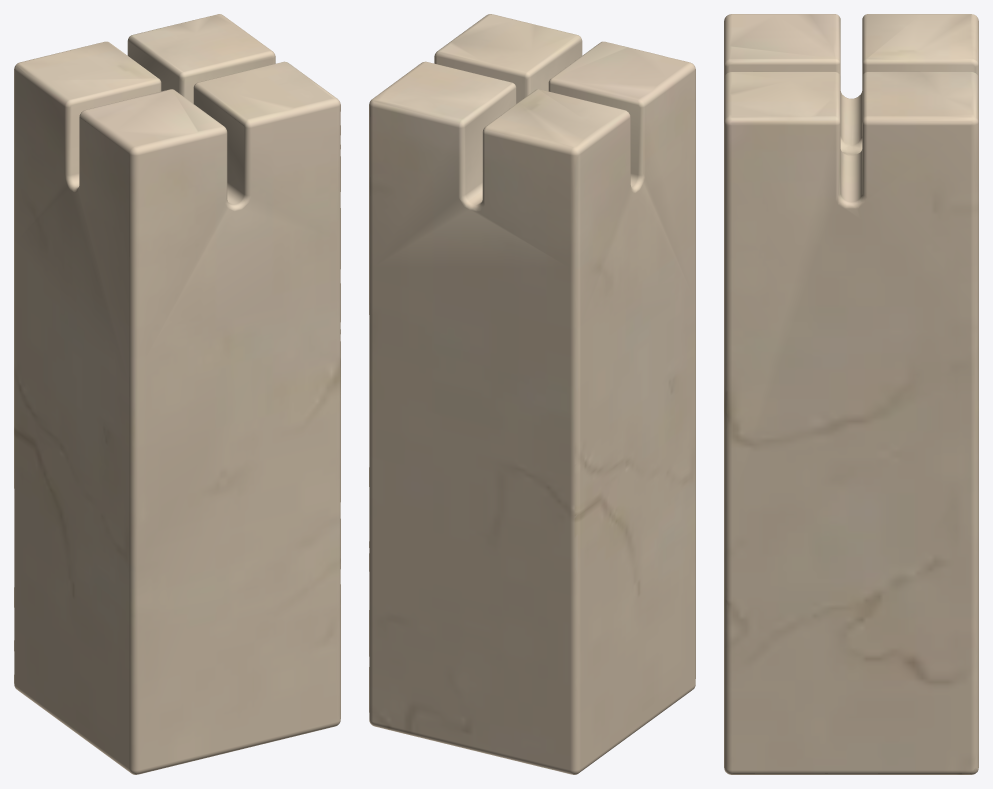
File: vez_bily.glb
3 views of the same model, side by side, from view 1: azimuth 30°, elevation 25°; view 2: azimuth 150°, elevation 25°; view 3: azimuth 270°, elevation 25° (orthographic). The views are drawn at different scales.
Visible parts, largest first — view 1: vez_bily; view 2: vez_bily; view 3: vez_bily.
Boxes of the visible parts, left/top/right/bottom form: vez_bily: left=14, top=14, right=340, bottom=774; vez_bily: left=369, top=14, right=695, bottom=774; vez_bily: left=724, top=14, right=978, bottom=774.
Bounding box in the file's own units: 0.024 × 0.0684 × 0.024.
Materials: 1 (1 with a texture image).
